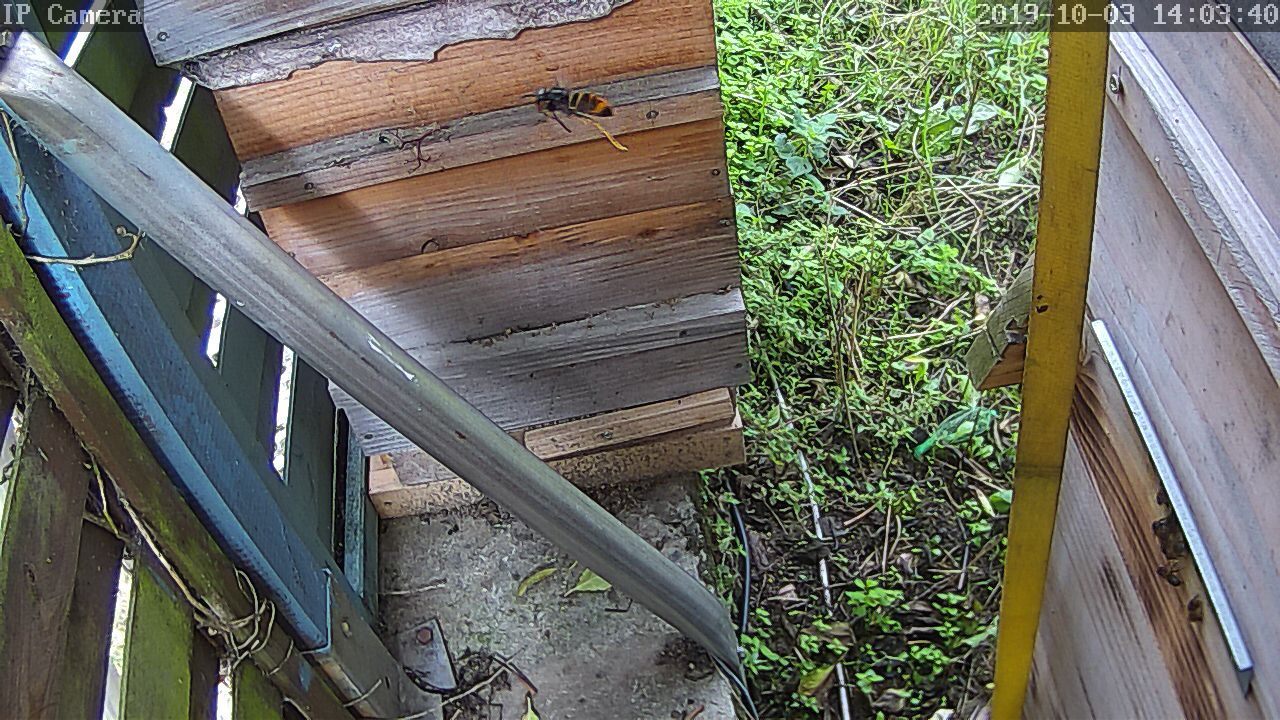bee: (1156, 523, 1196, 590), (1177, 589, 1213, 625)
hornet: (520, 84, 619, 130)
